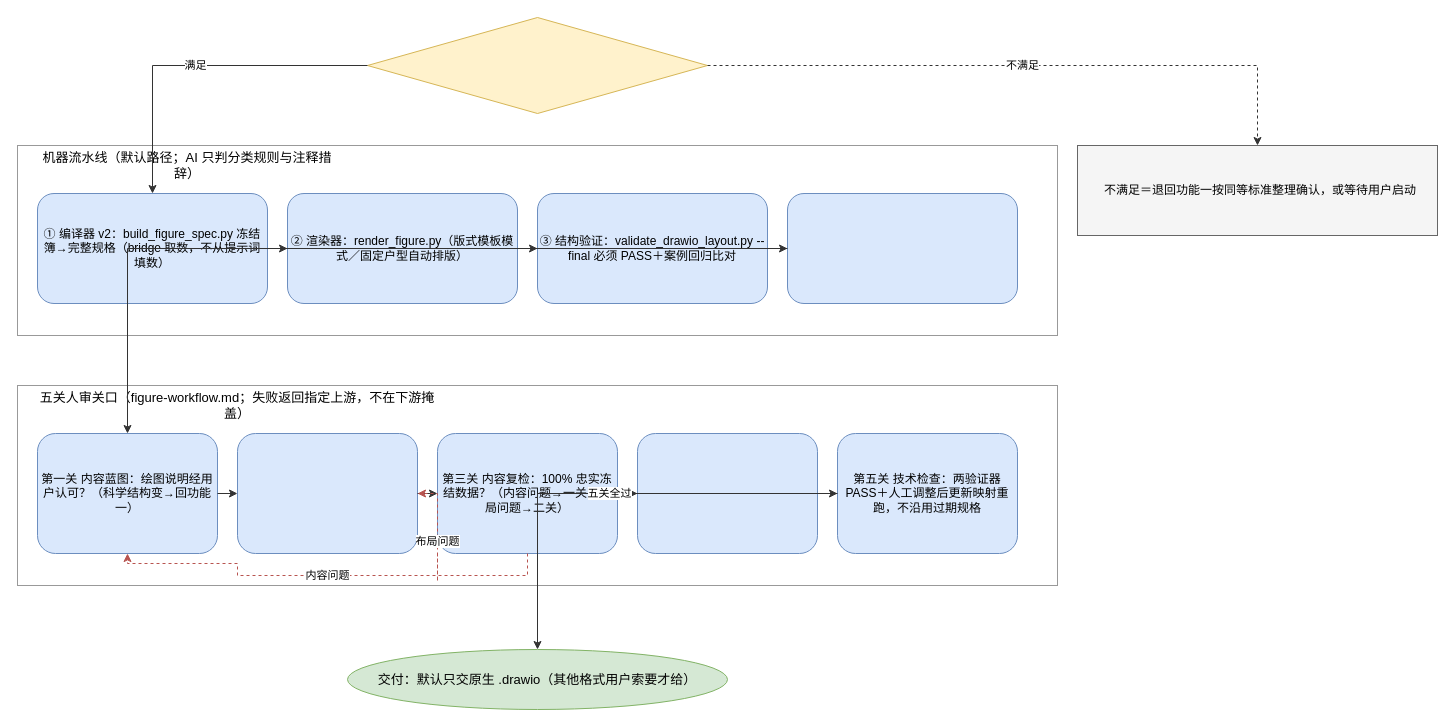
The diagram is 1455 pixels wide and 727 high, and some of its shapes have lost their labels. Here are the shapes that lost their labels. From the top down, the centre of each, then its label:
the point at 537,65: 入口门槛：冻结 Excel（本 skill 或外部同等质量）＋用户明确启动绘图？
the point at 902,248: ④ 视觉验收（必经）：export_png.py --scale 1 亲自分区放大查看；结构 PASS≠视觉 PASS
the point at 327,493: 第二关 无色版式：去色可读？（失败只调版式）
the point at 727,493: 第四关 视觉优化：统一视觉语言，黑白仍可读
